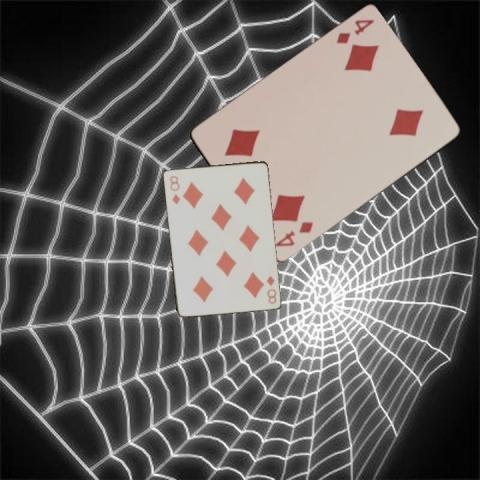4d: (271, 218, 315, 248), (333, 17, 376, 46)
8d: (263, 273, 278, 305), (167, 173, 181, 205)
